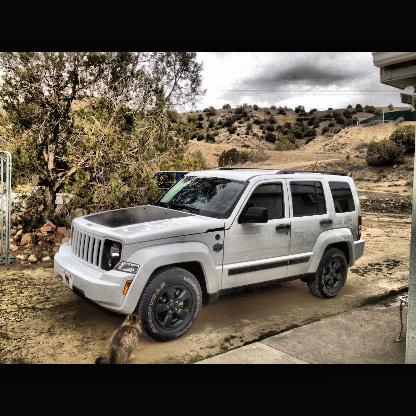Jeep Liberty SUV 2012: (53, 166, 367, 345)
